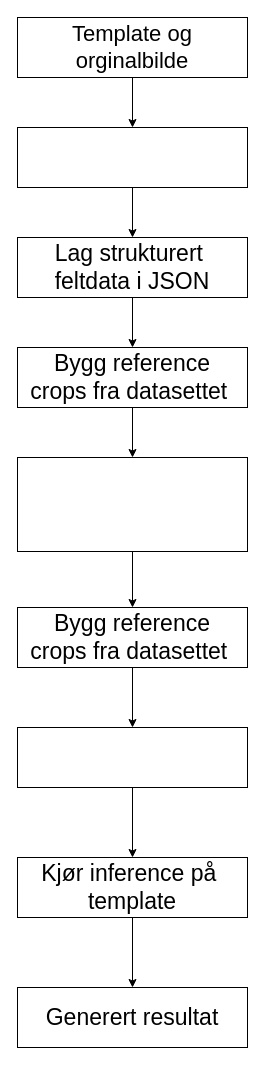
Image size: 265x1065. Some labels were removed from this diagram. Each missing label, with the centre of its shape:
"Finn redigeringsfelt med bildeanalyse" belongs at (132,157).
"Lag treningsdata med crop, maske, verdi og referanse" belongs at (132,504).
"Tren U-Net-basert image editor" belongs at (132,757).
